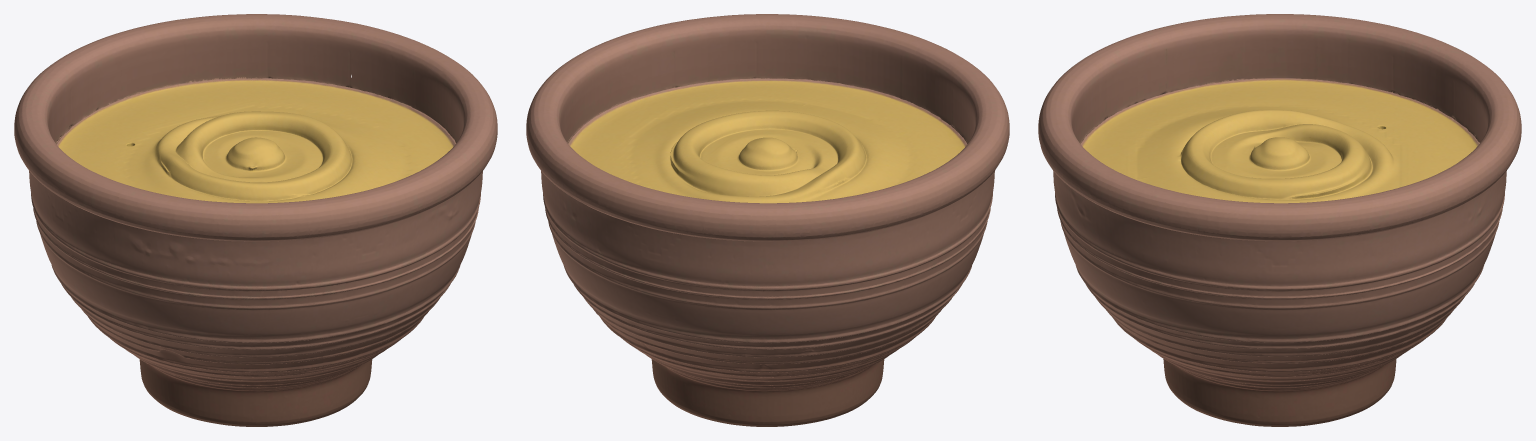
Rendered from realistic-soup.glb.
The picture shows the model from 3 angles, left to right: view 1: azimuth 30°, elevation 25°; view 2: azimuth 150°, elevation 25°; view 3: azimuth 270°, elevation 25°; orthographic projection.
Visible parts, largest first — view 1: tripo_node_f393c4e5-c934-41b6-a75a-e73370e91145; view 2: tripo_node_f393c4e5-c934-41b6-a75a-e73370e91145; view 3: tripo_node_f393c4e5-c934-41b6-a75a-e73370e91145.
Part boxes in pixels (left/top/right/bottom): tripo_node_f393c4e5-c934-41b6-a75a-e73370e91145: left=14, top=14, right=497, bottom=426; tripo_node_f393c4e5-c934-41b6-a75a-e73370e91145: left=526, top=14, right=1009, bottom=426; tripo_node_f393c4e5-c934-41b6-a75a-e73370e91145: left=1038, top=14, right=1521, bottom=426.
Size of the model in its own units: 1 by 0.6176 by 1.
Materials: 1 (1 with a texture image).
